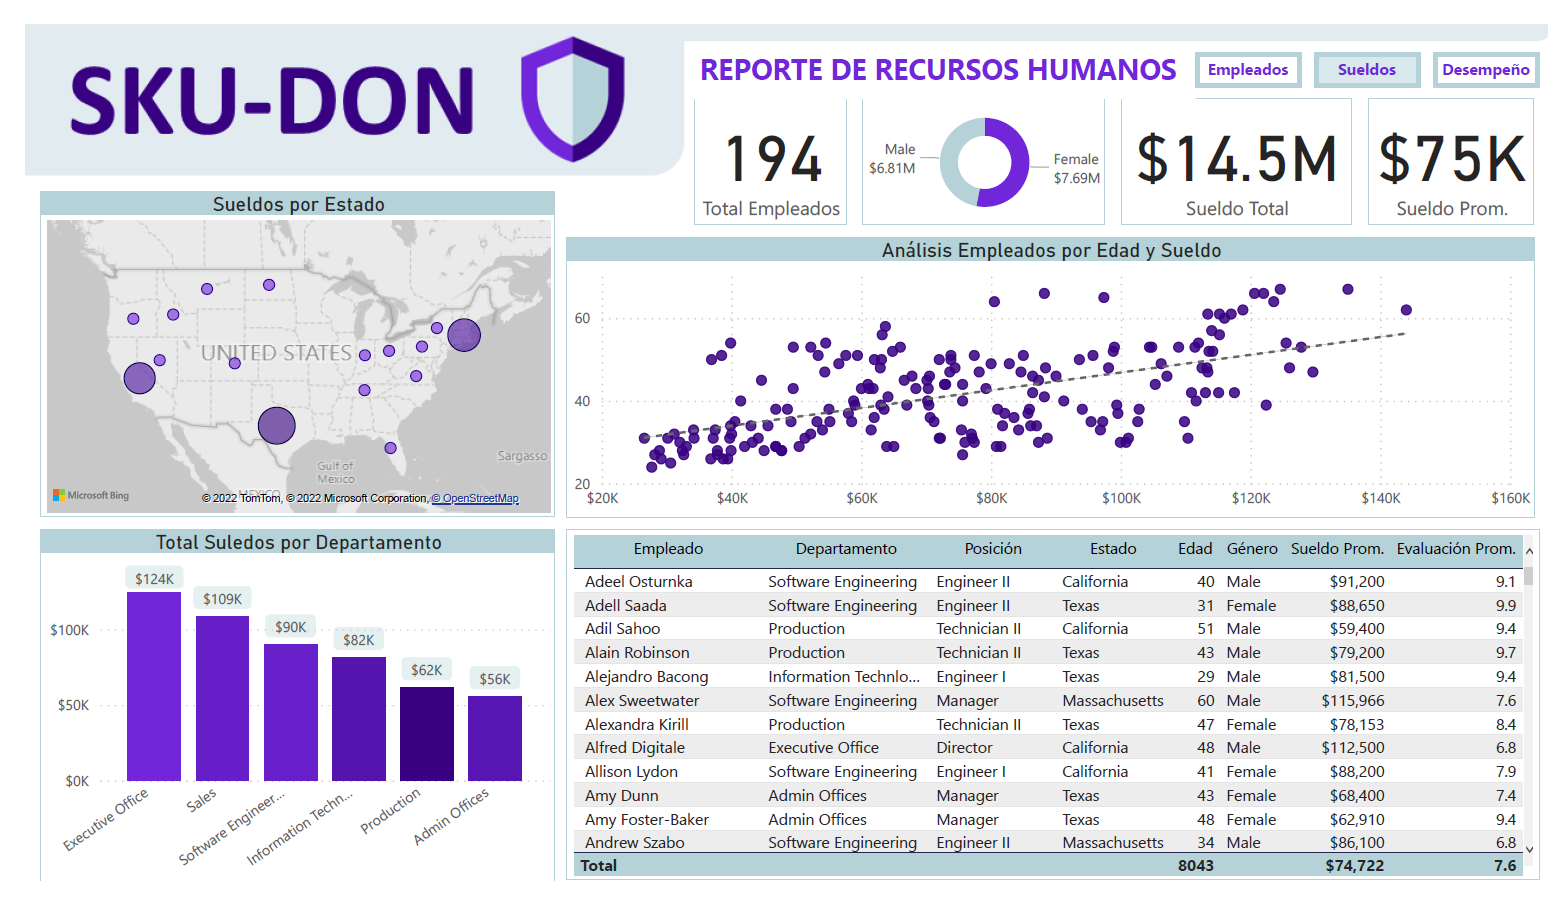

The dashboard page shown, as its layout file describes it:
{"tool":"powerbi","page":{"name":"Análisis Sueldos","canvas":[1280,720],"ordinal":1},"visuals":[{"type":"tableEx","fields":{"Values":["Tabla Empleados.Empleado","Tabla Empleados.Departamento","Tabla Empleados.Posición","Tabla Empleados.Estado","Sum(Tabla Empleados.Edad)","Tabla Empleados.Género","_Medidas.Promedio de Sueldo","_Medidas.Promedio desempeño"]},"box":[454.5,424.2,819.1,295.7],"z":0},{"type":"card","fields":{"Values":["_Medidas.Total Empleados"]},"box":[562,61.5,128.6,107.4],"z":1000},{"type":"donutChart","fields":{"Category":["Tabla Empleados.Género"],"Y":["Sum(Tabla Sueldo.Sueldo)"]},"box":[703.5,61.5,204.8,107.4],"z":2000},{"type":"columnChart","title":"Total Suledos por Departamento","fields":{"Category":["Tabla Empleados.Departamento"],"Y":["_Medidas.Sueldo Promedio"]},"box":[11.9,424.2,433.4,296.6],"z":3000},{"type":"map","title":"Sueldos por Estado","fields":{"Category":["Tabla Empleados.Estado"],"Size":["Sum(Tabla Sueldo.Sueldo)"]},"box":[11.9,139.6,433.4,275.5],"z":4000},{"type":"card","fields":{"Values":["_Medidas.Sueldo Promedio"]},"box":[1129.2,61.5,140.5,107.1],"z":5000},{"type":"card","fields":{"Values":["Sum(Tabla Sueldo.Sueldo)"]},"box":[921.3,61.5,194.9,107.1],"z":7000},{"type":"scatterChart","title":"Análisis  Empleados por Edad y Sueldo","fields":{"Category":["Tabla Empleados.Empleado"],"X":["Sum(Tabla Sueldo.Sueldo)"],"Y":["Sum(Tabla Empleados.Edad)"]},"box":[454.8,178.2,814.8,237.1],"z":8000},{"type":"textbox","box":[562,15.6,422.4,45.9],"z":11000},{"type":"actionButton","title":"Empleados","box":[1184.5,23.7,88.7,29],"z":12000},{"type":"actionButton","title":"Empleados","box":[1084.4,23.7,88.7,29],"z":13000},{"type":"actionButton","title":"Empleados","box":[984.3,23.7,88.7,29],"z":14000}]}

Visuals, with their boxes in screenshot pixels (x1, y1, x2, y2), scaled from the page's 1280x720 canvas onto the 1565x899 screenshot:
tableEx - Tabla Empleados.Empleado x Tabla Empleados.Departamento: (left=556, top=530, right=1557, bottom=898)
card - _Medidas.Total Empleados: (left=687, top=77, right=844, bottom=211)
donutChart - Tabla Empleados.Género x Sum(Tabla Sueldo.Sueldo): (left=860, top=77, right=1111, bottom=211)
"Total Suledos por Departamento" columnChart: (left=15, top=530, right=544, bottom=898)
"Sueldos por Estado" map: (left=15, top=174, right=544, bottom=518)
card - _Medidas.Sueldo Promedio: (left=1381, top=77, right=1552, bottom=211)
card - Sum(Tabla Sueldo.Sueldo): (left=1126, top=77, right=1365, bottom=211)
"Análisis  Empleados por Edad y Sueldo" scatterChart: (left=556, top=223, right=1552, bottom=519)
textbox: (left=687, top=19, right=1204, bottom=77)
"Empleados" actionButton: (left=1448, top=30, right=1557, bottom=66)
"Empleados" actionButton: (left=1326, top=30, right=1434, bottom=66)
"Empleados" actionButton: (left=1203, top=30, right=1312, bottom=66)
